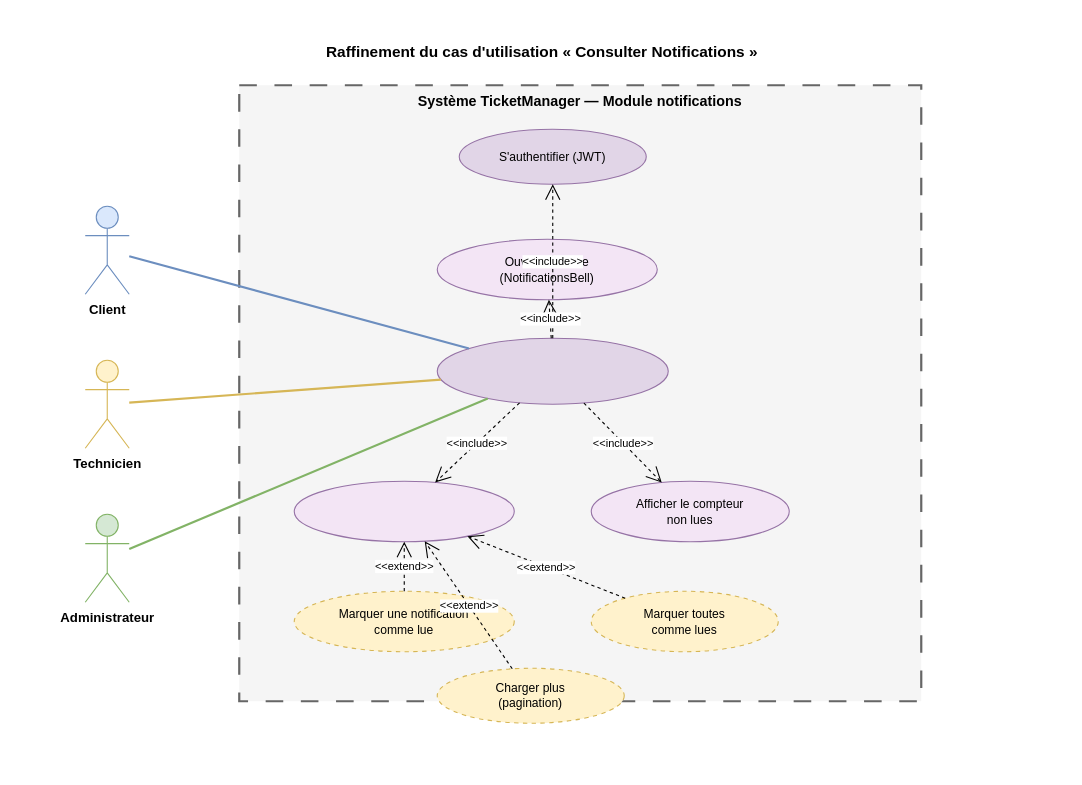
The diagram is 1082 pixels wide and 785 high, and some of its shapes have lost their labels. Here are the shapes that lost their labels. From the top down, the centre of each, then its label:
the point at 552,370: Consulter Notifications
the point at 403,511: Lister les notifications (GET /notifications)
